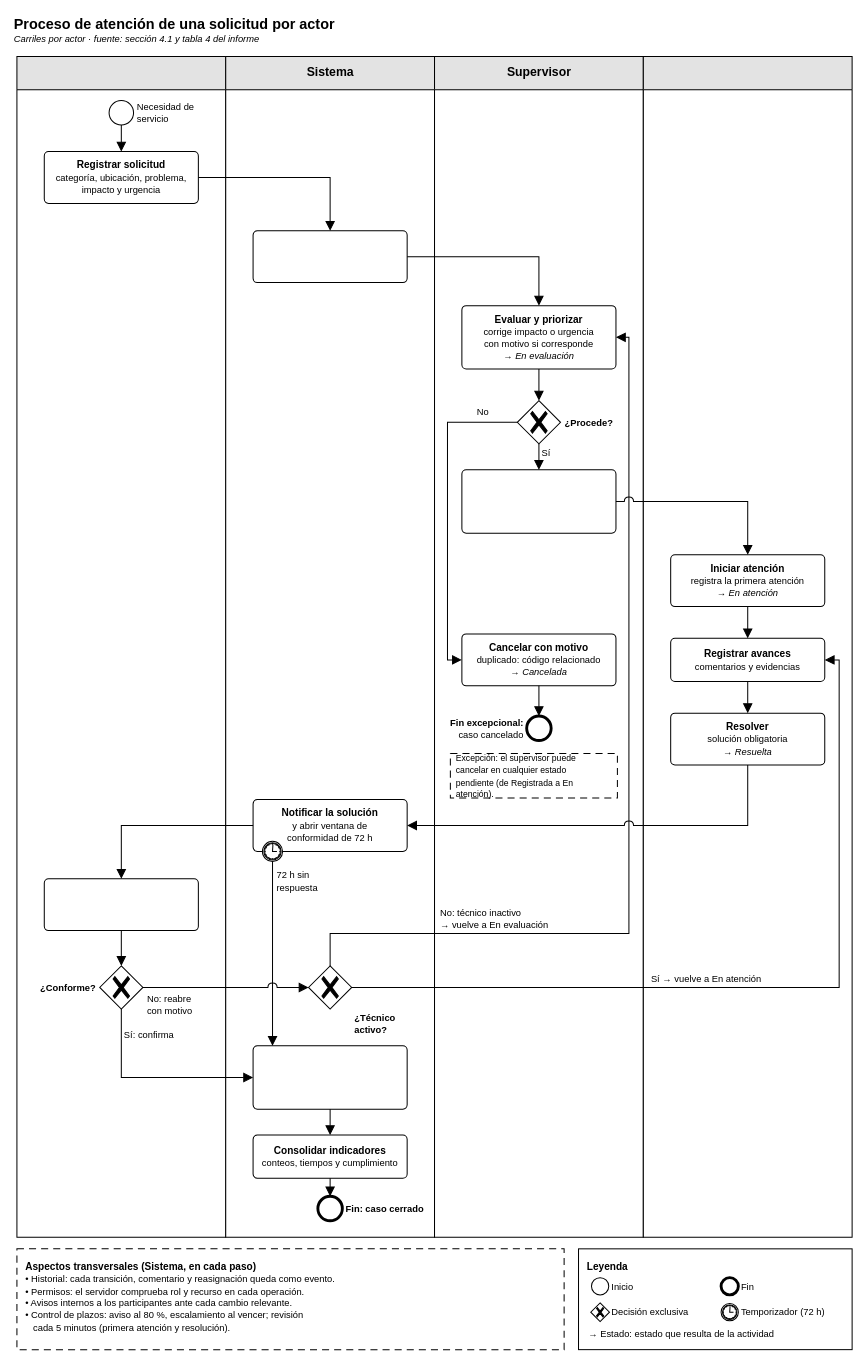
The diagram is 865 pixels wide and 1362 high, and some of its shapes have lost their labels. Each missing label, with the box of its shape:
Asignar técnico activo del área según prioridad y carga visible → Asignada: (461, 469, 616, 533)
Cerrar caso por confirmación o automático a 72 h → Cerrada: (252, 1045, 407, 1109)
Generar código MSU, prioridad inicial y plazos → Registrada: (252, 230, 407, 283)
Revisar la solución confirmar o reabrir (motivo si reabre): (43, 878, 199, 931)
Solicitante: (16, 56, 226, 1237)
Técnico: (642, 56, 852, 1237)
